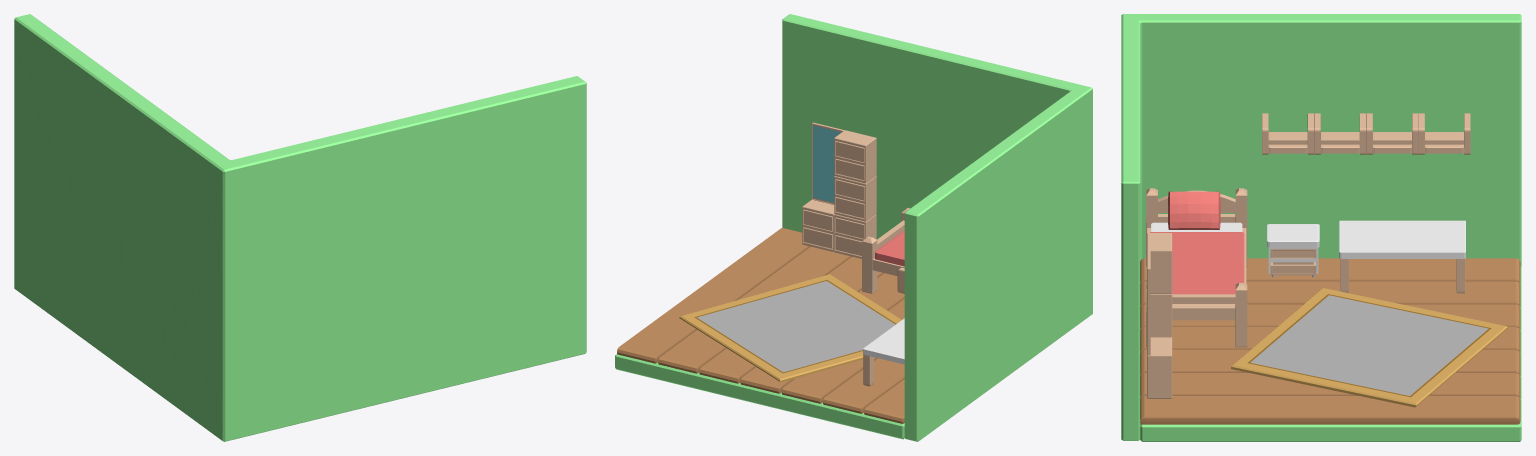
The model's file is bedroom.fbx.
3 views of the same model, side by side, from view 1: azimuth 30°, elevation 25°; view 2: azimuth 150°, elevation 25°; view 3: azimuth 270°, elevation 25° (orthographic). The views are drawn at different scales.
Parts seen in each view (by area): view 1: Wall; view 2: Wall, Wood floor 1, Plane, Table 1.001, Floor, Bed 1, Table 1.003, Table 1; view 3: Wall, Wood floor 1, Plane, Bed 1, Floor, Wall bookshelf.002, Table 1, Table 1.001, Cone.003.
Boxes of the visible parts, x1,y1,x2,y2 form: Wall: [14, 14, 586, 441]; Wall: [782, 14, 1092, 441]; Wood floor 1: [617, 228, 904, 423]; Plane: [679, 274, 901, 382]; Table 1.001: [802, 122, 876, 258]; Floor: [615, 354, 904, 439]; Bed 1: [862, 208, 909, 293]; Table 1.003: [813, 125, 841, 202]; Table 1: [863, 318, 904, 386]; Wall: [1121, 14, 1521, 440]; Wood floor 1: [1140, 258, 1520, 424]; Plane: [1231, 288, 1507, 407]; Bed 1: [1146, 188, 1247, 347]; Floor: [1140, 266, 1521, 441]; Wall bookshelf.002: [1262, 113, 1470, 154]; Table 1: [1339, 220, 1465, 293]; Table 1.001: [1147, 233, 1172, 398]; Cone.003: [1267, 224, 1319, 277].
Bounding box in the file's own units: 134 × 96.06 × 134.
